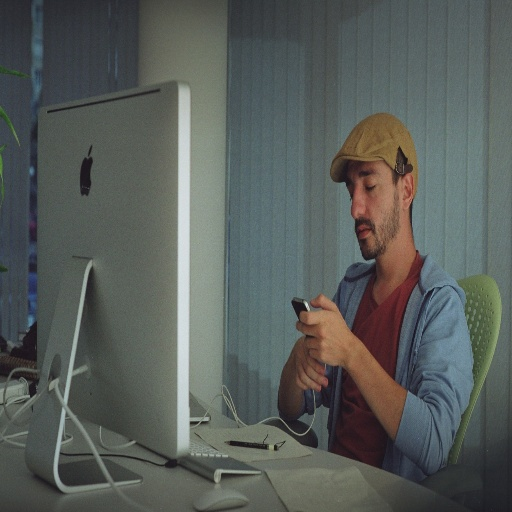hand: (297, 293, 379, 395), (292, 336, 328, 391)
